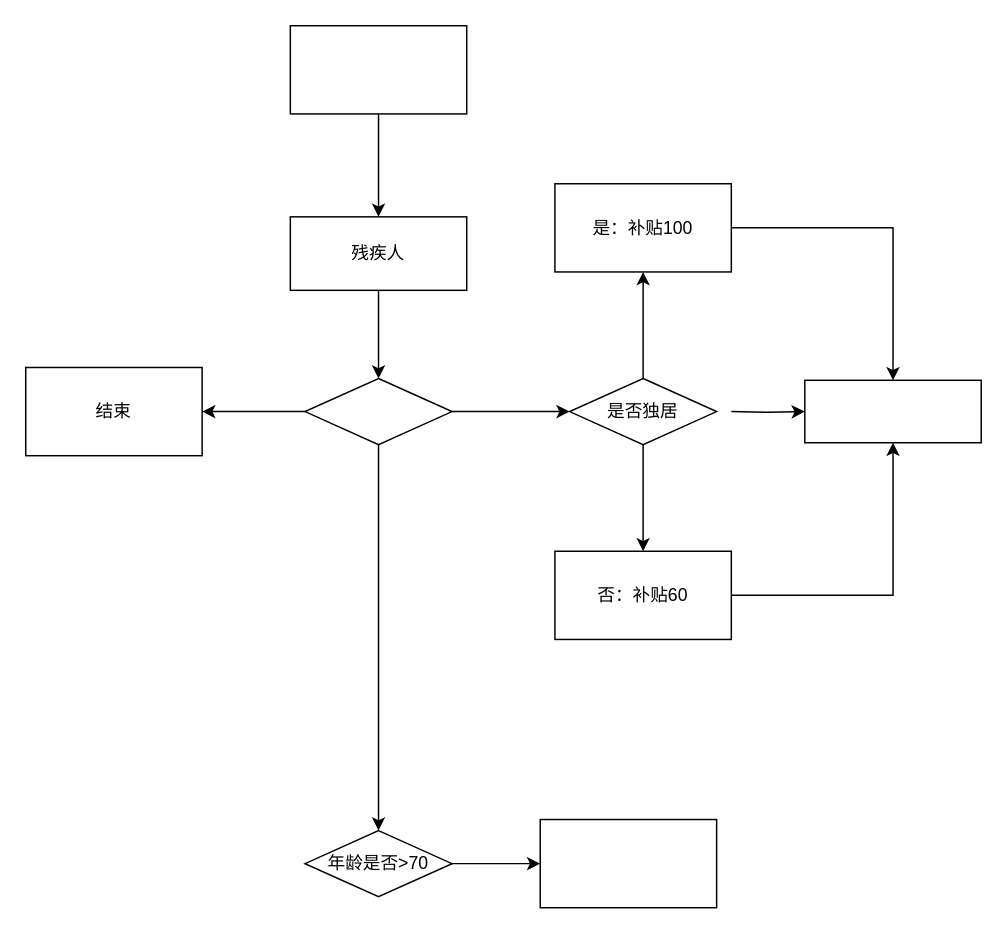
The diagram is 1007 pixels wide and 933 high, and some of its shapes have lost their labels. The shapes that lost their labels are listed below. From the top down, each one's centre as x and y in pixels, then its label:
[378,69]: 残疾人补贴
[378,411]: 年龄是否>60
[892,411]: 发放补贴
